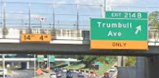1: (22, 33, 28, 41)
4: (38, 34, 44, 42), (25, 34, 31, 41)
overheadsign: (20, 33, 51, 43)
